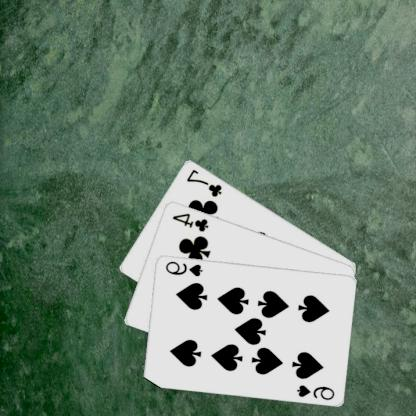4C: (171, 210, 211, 233)
7C: (185, 166, 225, 198)
9S: (164, 258, 206, 277), (296, 382, 337, 401)
